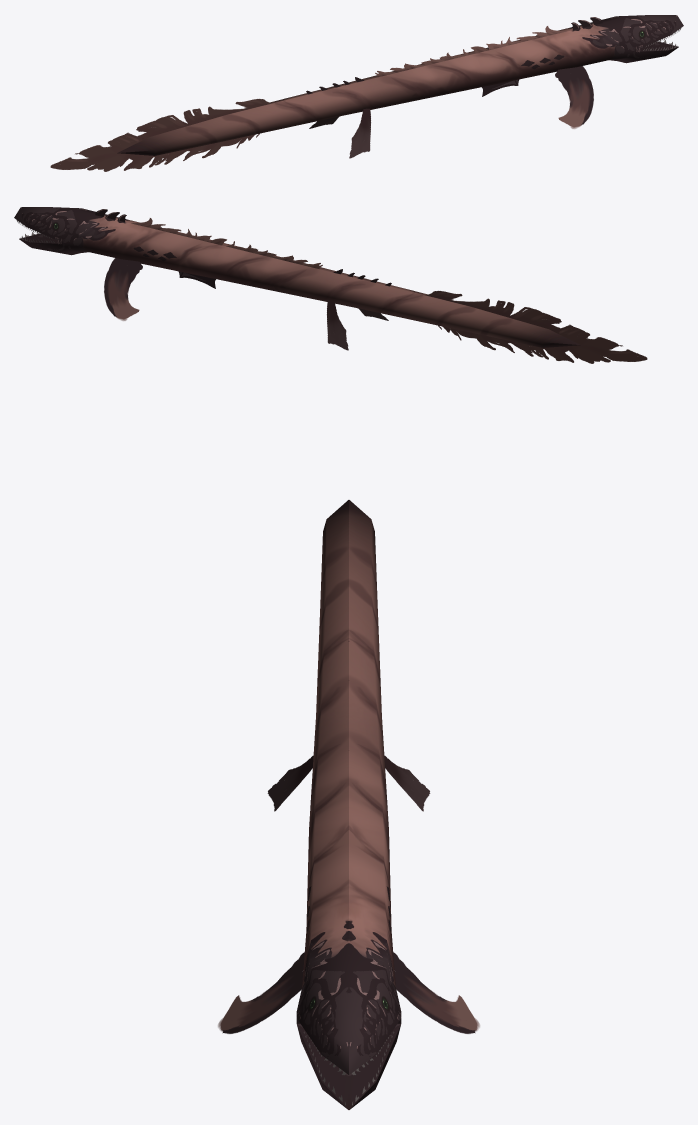
Rendered from seamonster.glb.
3 views of the same model, one above another, from view 1: azimuth 30°, elevation 25°; view 2: azimuth 150°, elevation 25°; view 3: azimuth 270°, elevation 25° (orthographic). The views are drawn at different scales.
Parts seen in each view (by area): view 1: Plane.006; view 2: Plane.006; view 3: Plane.006.
Part boxes in pixels (left/top/right/bottom): Plane.006: left=50, top=15, right=683, bottom=171; Plane.006: left=14, top=207, right=647, bottom=363; Plane.006: left=218, top=500, right=479, bottom=1109.
Bounding box in the file's own units: 22.64 × 2.82 × 4.06.
1 material, 1 textured.
